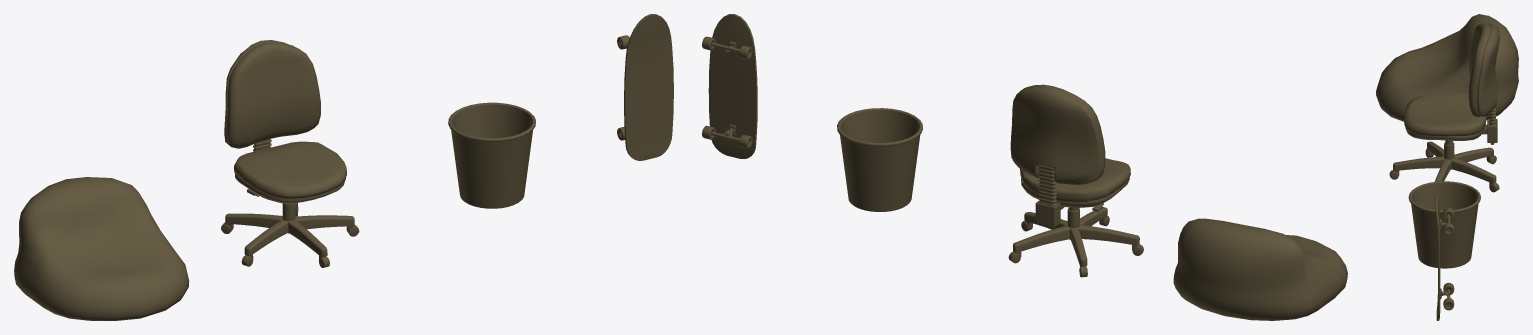
The model's file is bedroom_medium_furniture.fbx.
3 views of the same model, side by side, from view 1: azimuth 30°, elevation 25°; view 2: azimuth 150°, elevation 25°; view 3: azimuth 270°, elevation 25° (orthographic). The views are drawn at different scales.
Parts seen in each view (by area): view 1: beanbag, chair, waste_bin, skateboard; view 2: chair, beanbag, waste_bin, skateboard; view 3: chair, beanbag, waste_bin, skateboard.
Boxes of the visible parts, x1,y1,x2,y2 form: beanbag: [14, 177, 189, 320]; chair: [221, 40, 359, 267]; waste_bin: [448, 102, 535, 208]; skateboard: [617, 14, 673, 160]; chair: [1008, 84, 1143, 277]; beanbag: [1173, 218, 1347, 320]; waste_bin: [837, 108, 922, 211]; skateboard: [702, 14, 757, 158]; chair: [1389, 23, 1499, 192]; beanbag: [1376, 14, 1518, 121]; waste_bin: [1408, 181, 1480, 268]; skateboard: [1435, 196, 1454, 320].
Bounding box in the file's own units: 3407 × 944 × 802.
